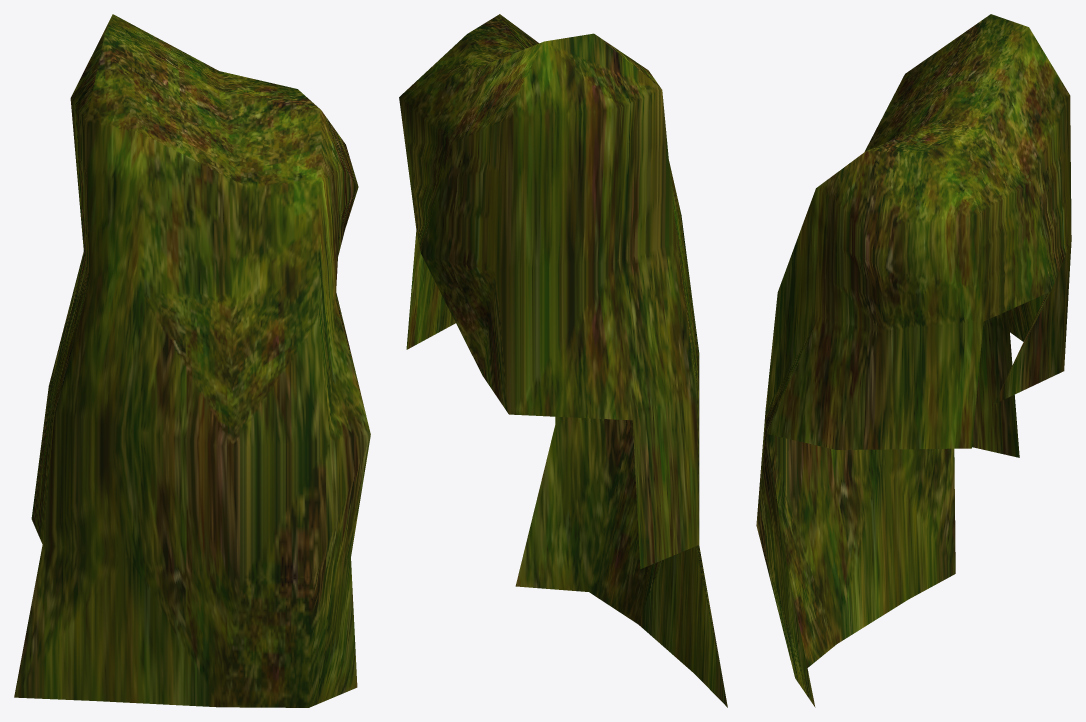
Rendered from TROLLHOLE02_RM_PSURF102.fbx.
3 views of the same model, side by side, from view 1: azimuth 30°, elevation 25°; view 2: azimuth 150°, elevation 25°; view 3: azimuth 270°, elevation 25° (orthographic). The views are drawn at different scales.
Visible parts, largest first — view 1: TROLLHOLE02_RM_PSURF102; view 2: TROLLHOLE02_RM_PSURF102; view 3: TROLLHOLE02_RM_PSURF102.
Part boxes in pixels (x1,y1,x2,y2): TROLLHOLE02_RM_PSURF102: [14, 14, 370, 707]; TROLLHOLE02_RM_PSURF102: [399, 14, 727, 707]; TROLLHOLE02_RM_PSURF102: [756, 14, 1071, 707].
Bounding box in the file's own units: 55515 × 107946 × 50070.
Materials: 1 (1 with a texture image).
